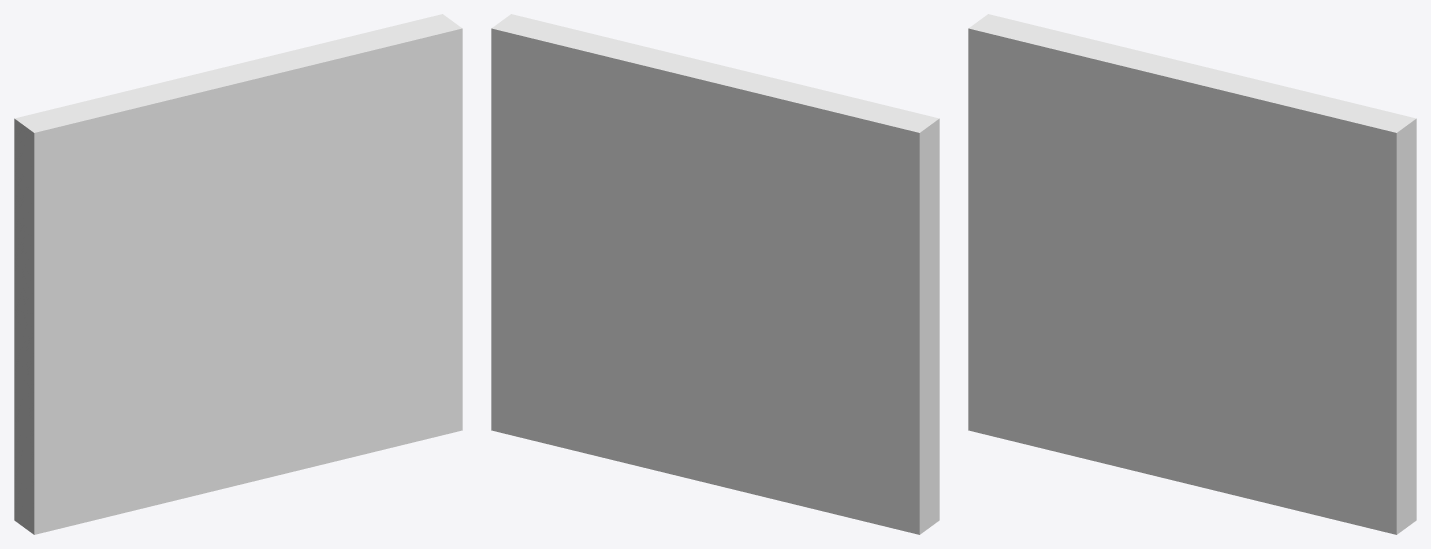
File: 玻璃板.glb
The picture shows the model from 3 angles, left to right: view 1: azimuth 30°, elevation 25°; view 2: azimuth 150°, elevation 25°; view 3: azimuth 330°, elevation 25°; orthographic projection.
Parts seen in each view (by area): view 1: 玻璃板; view 2: 玻璃板; view 3: 玻璃板.
Part boxes in pixels (x1=…): 玻璃板: x1=14, y1=14, x2=462, y2=534; 玻璃板: x1=491, y1=14, x2=939, y2=534; 玻璃板: x1=968, y1=14, x2=1416, y2=534.
Bounding box in the file's own units: 0.1697 × 0.1522 × 0.0136.
Materials: 1 (1 with a texture image).
